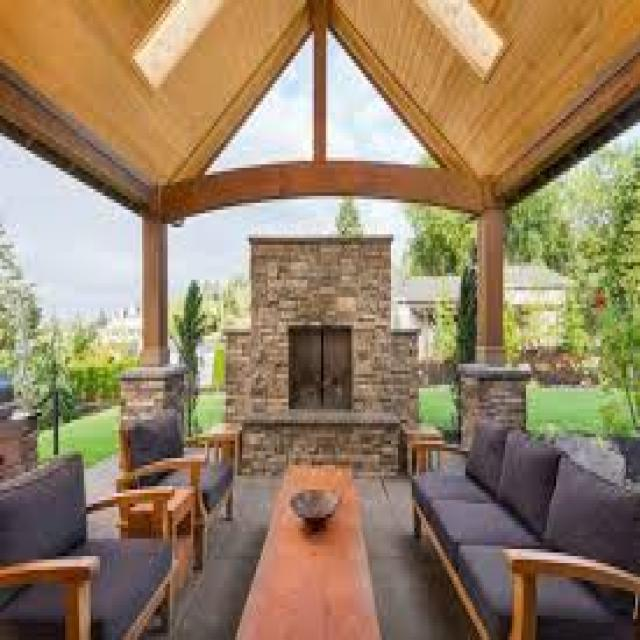Chair: (0, 440, 177, 640), (107, 411, 240, 538)
Sofa: (389, 391, 640, 640)
Table: (249, 433, 376, 640)
